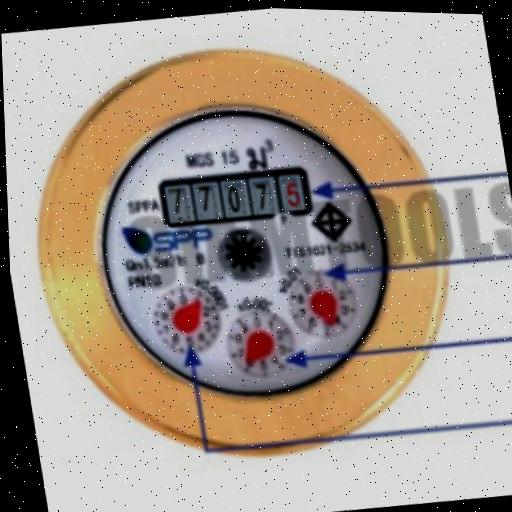0: (224, 182, 246, 217)
5: (283, 178, 303, 210)
7: (168, 189, 190, 223), (197, 186, 217, 221), (254, 181, 274, 215)
border_water_meter_number: (157, 162, 315, 234)
